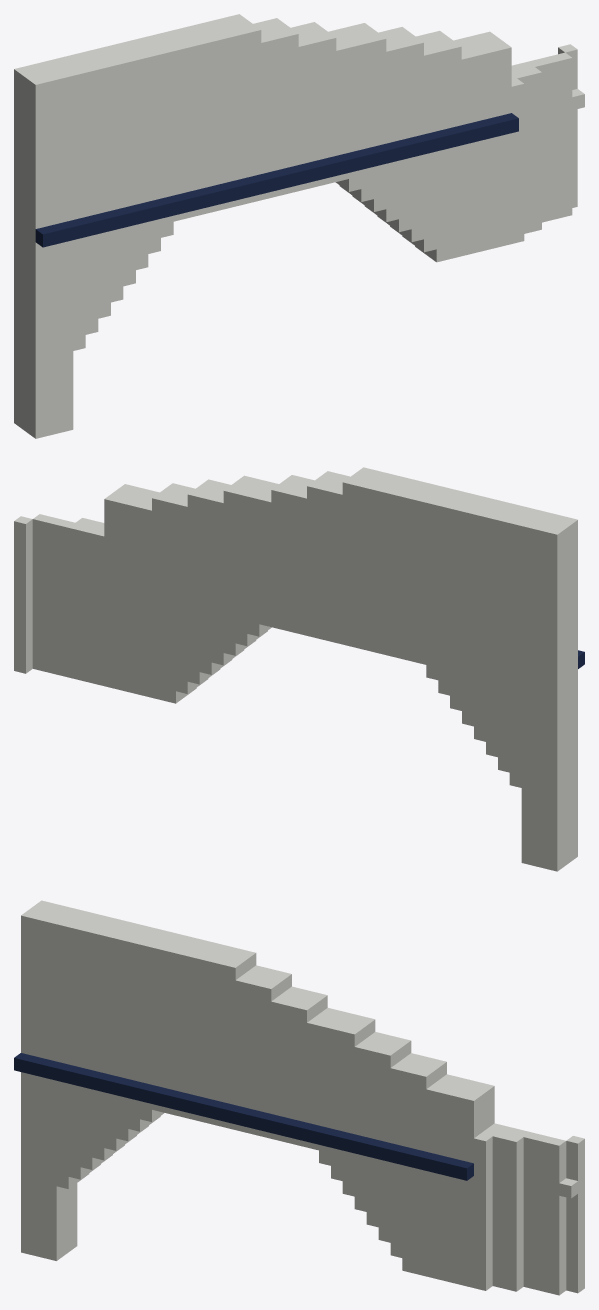
File: riot_van_front_wing.glb
The picture shows the model from 3 angles, top to bottom: view 1: azimuth 30°, elevation 25°; view 2: azimuth 150°, elevation 25°; view 3: azimuth 330°, elevation 25°; orthographic projection. The views are drawn at different scales.
Parts seen in each view (by area): view 1: body:compound; view 2: body:compound; view 3: body:compound.
Boxes of the visible parts, x1,y1,x2,y2 form: body:compound: [14, 14, 584, 438]; body:compound: [14, 467, 584, 871]; body:compound: [14, 900, 584, 1295].
Size of the model in its own units: 1.41 by 0.8438 by 0.1562.
